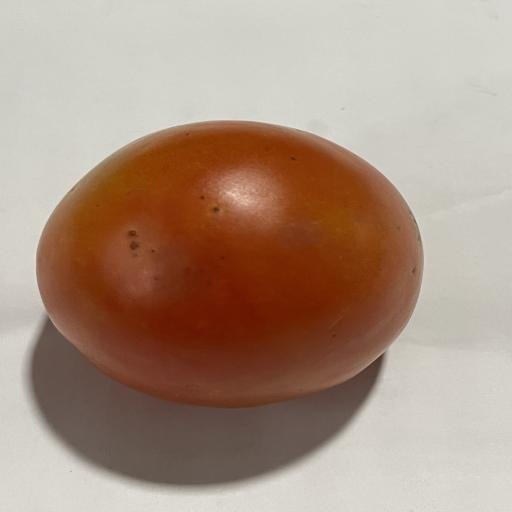ripe: (37, 121, 423, 407)
